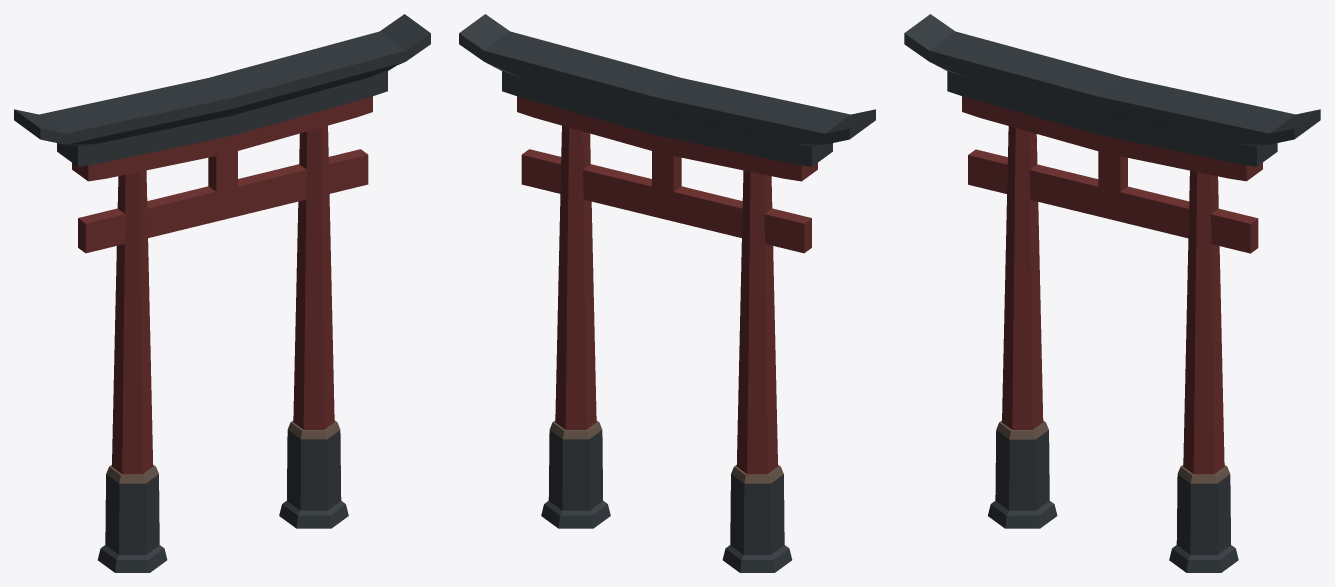
The model's file is torii-gate-red.glb.
3 views of the same model, side by side, from view 1: azimuth 30°, elevation 25°; view 2: azimuth 150°, elevation 25°; view 3: azimuth 330°, elevation 25° (orthographic).
Visible parts, largest first — view 1: OWnG_averageGate(MyojinTorii)_01; view 2: OWnG_averageGate(MyojinTorii)_01; view 3: OWnG_averageGate(MyojinTorii)_01.
Part boxes in pixels (box(x1,y1,x2,y2)): OWnG_averageGate(MyojinTorii)_01: box(14, 14, 430, 572); OWnG_averageGate(MyojinTorii)_01: box(459, 14, 875, 572); OWnG_averageGate(MyojinTorii)_01: box(904, 14, 1320, 572).
Size of the model in its own units: 6.9 by 7.88 by 1.07.
